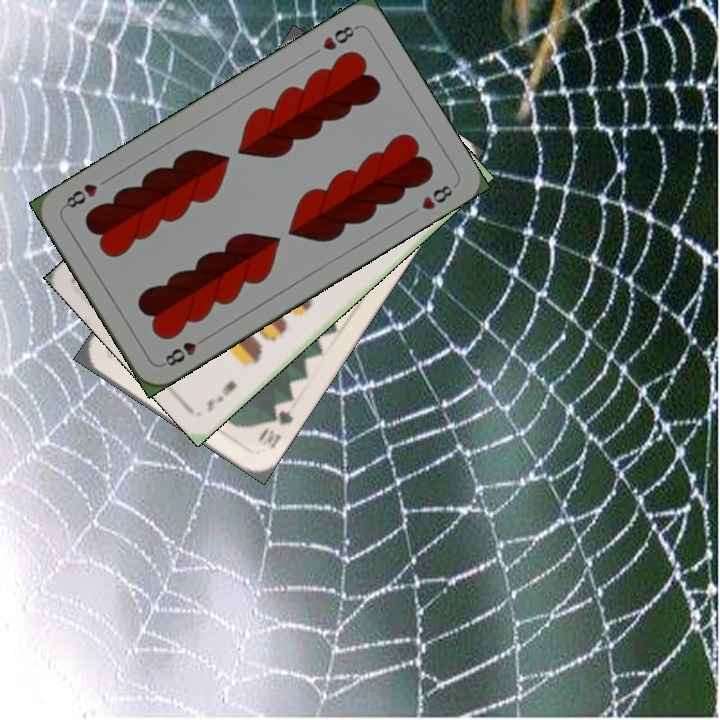E7: (202, 376, 240, 415)
G10: (254, 396, 296, 452)
H8: (158, 332, 211, 369), (318, 21, 360, 53)
